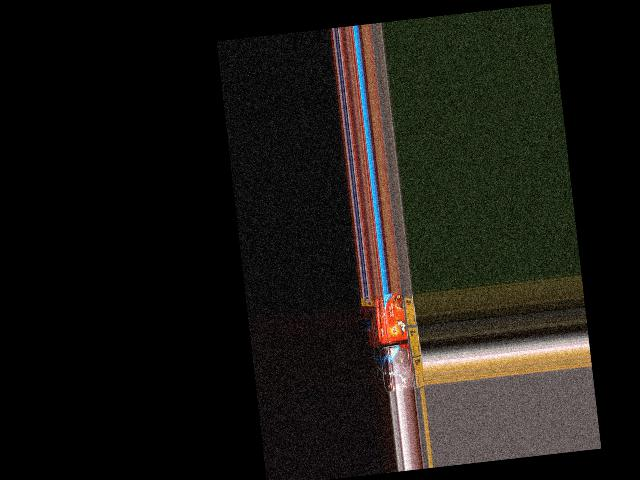chocolate: (387, 347, 419, 392)
